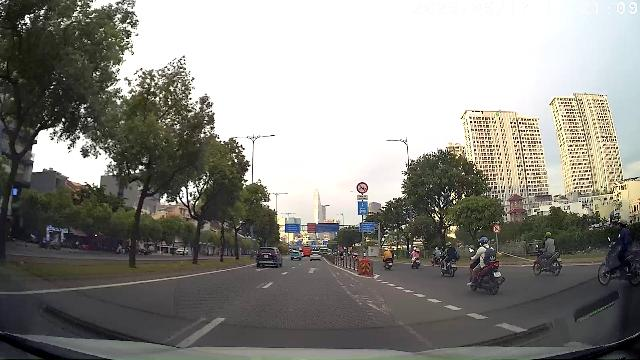103a-cam-oto: (493, 224, 501, 233)
